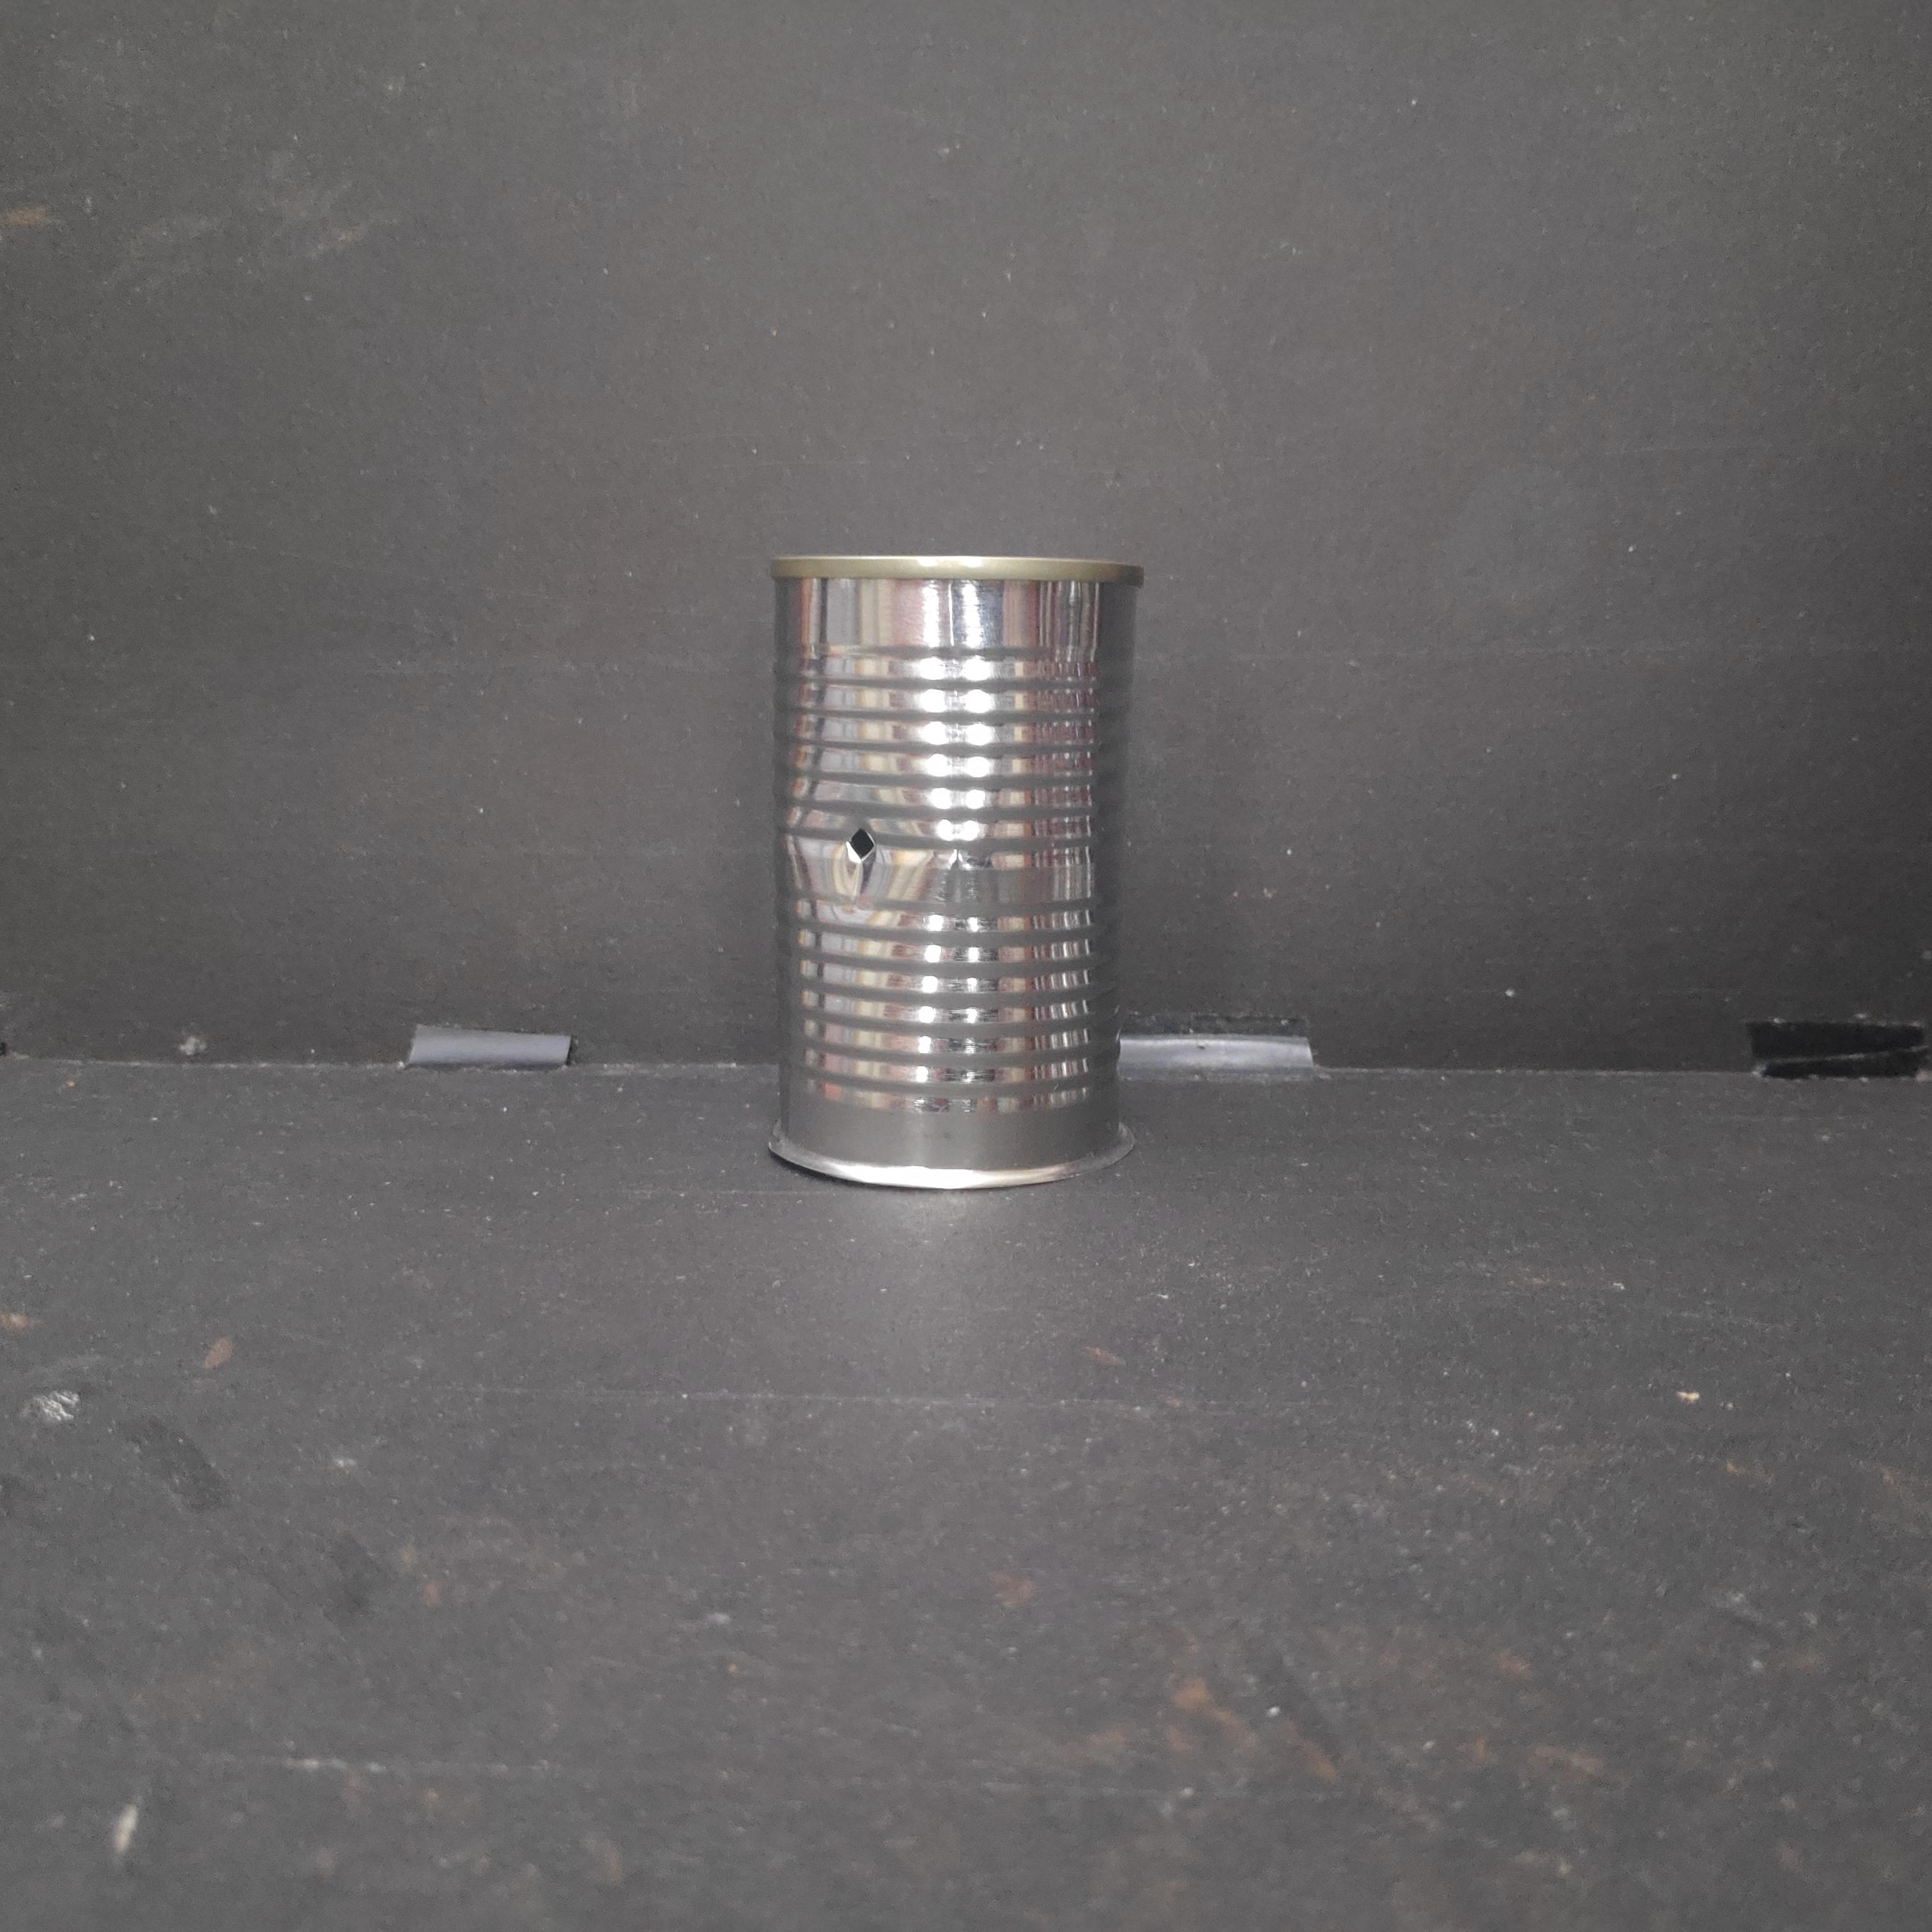Critical Defect: (752, 541, 1148, 1196)
